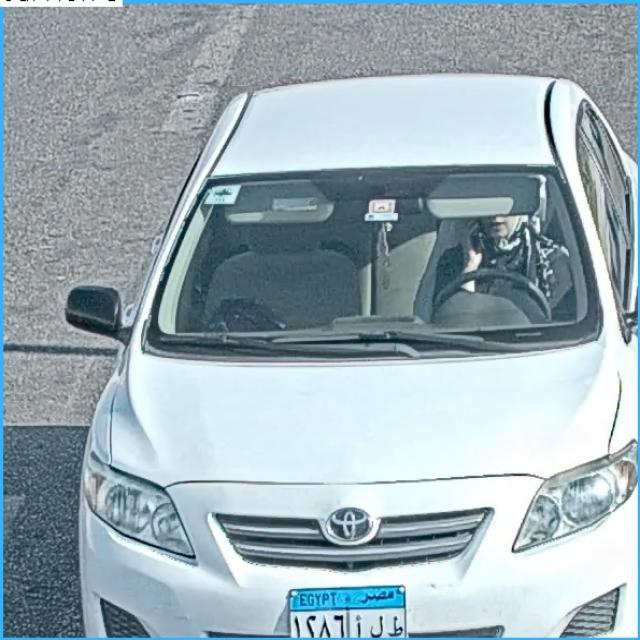windshield: (148, 176, 602, 335)
